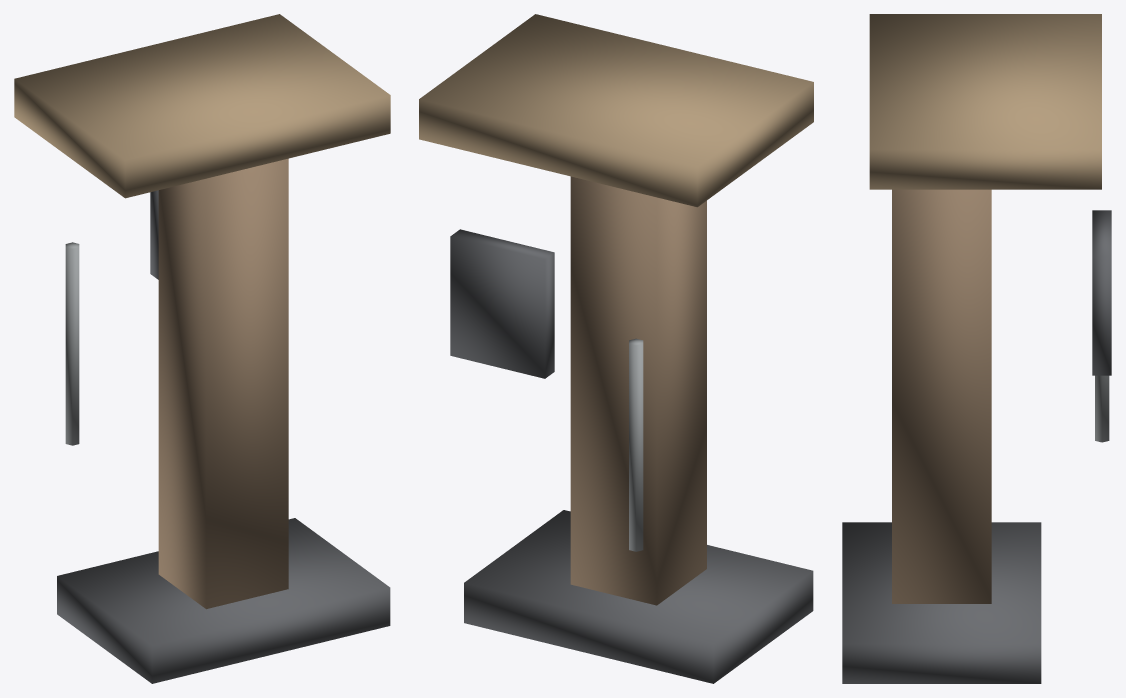
File: lectern__service.glb
3 views of the same model, side by side, from view 1: azimuth 30°, elevation 25°; view 2: azimuth 150°, elevation 25°; view 3: azimuth 270°, elevation 25° (orthographic). The views are drawn at different scales.
Visible parts, largest first — view 1: world; view 2: world; view 3: world.
Part boxes in pixels (left/top/right/bottom): world: left=14, top=14, right=390, bottom=683; world: left=419, top=14, right=813, bottom=683; world: left=842, top=14, right=1111, bottom=683.
Size of the model in its own units: 0.58 by 1.08 by 0.4875.
